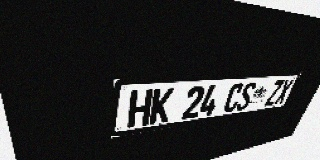2: (181, 86, 206, 120)
4: (198, 84, 222, 117)
C: (222, 83, 245, 113)
H: (127, 89, 153, 128)
K: (149, 88, 174, 125)
S: (235, 82, 257, 111)
X: (274, 79, 294, 105)
Z: (264, 80, 285, 106)
